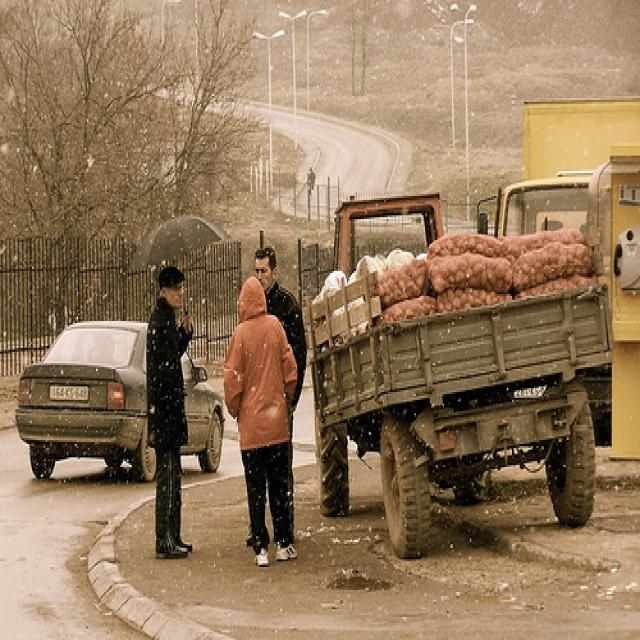motor: (307, 177, 313, 192)
